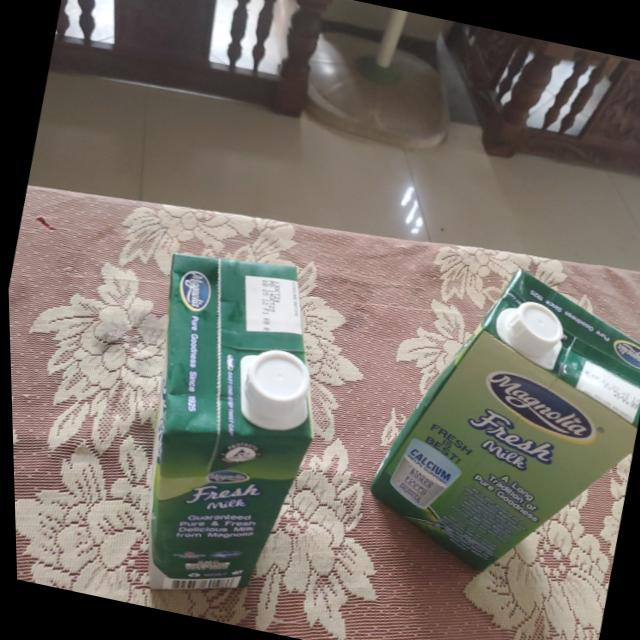milk: (348, 246, 640, 602), (101, 238, 345, 611)
